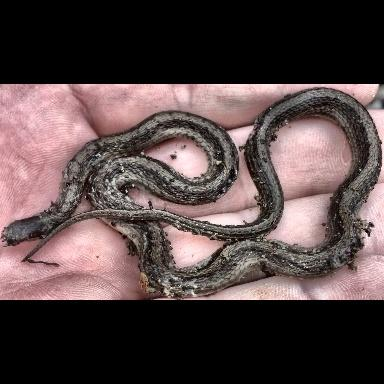snake: (2, 88, 381, 294)
